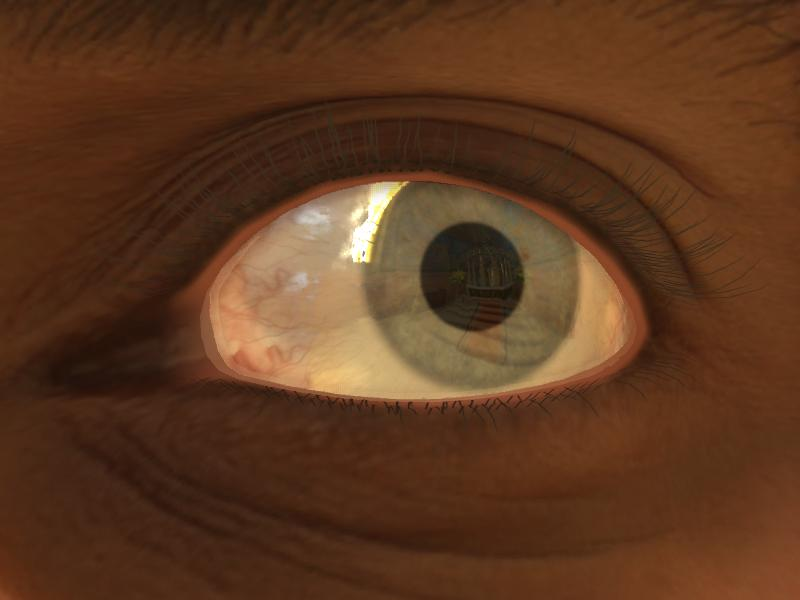eye: (363, 179, 585, 387)
